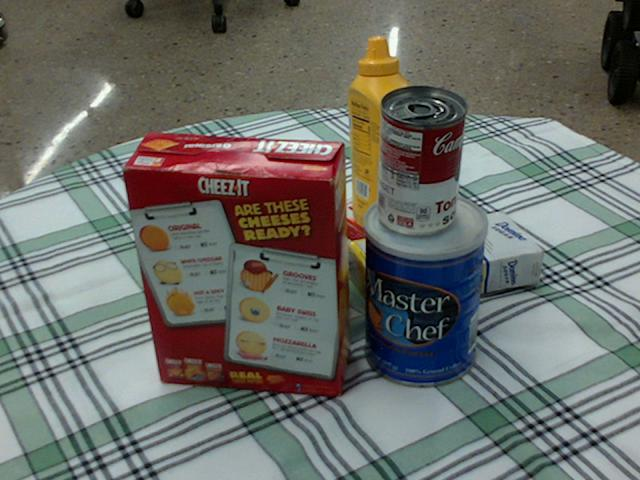cracker_box: (116, 134, 350, 394)
gelatin_box: (327, 182, 429, 253)
master_chef_can: (364, 188, 488, 386)
mug: (247, 209, 347, 325)
mustard_bottle: (347, 37, 417, 236)
potted_meat_can: (155, 230, 257, 327)
sugar_box: (347, 208, 544, 316)
tomato_soup_can: (376, 85, 464, 234)
tuna_fish_can: (162, 198, 253, 274)
